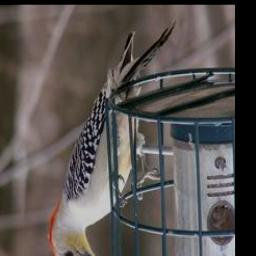Woodpecker: (46, 21, 177, 256)
